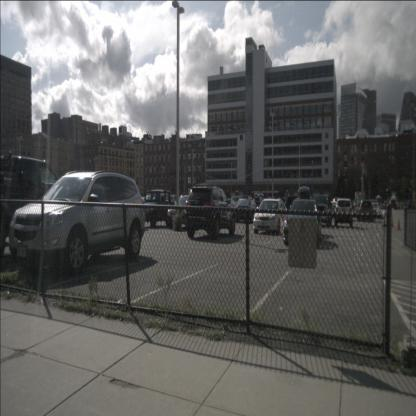movable_object-trafficcone: (396, 216, 401, 231), (390, 215, 394, 227)
vehicle-car: (9, 170, 145, 281), (184, 184, 236, 240), (282, 198, 322, 249), (137, 189, 176, 229), (253, 198, 289, 236), (167, 194, 202, 230), (310, 194, 334, 228), (234, 198, 262, 224), (334, 198, 353, 227), (225, 196, 247, 216), (356, 199, 374, 222), (352, 198, 364, 221), (368, 202, 380, 218), (389, 198, 397, 211), (254, 197, 263, 208), (407, 198, 415, 210), (383, 200, 389, 210)
vehicle-truck: (0, 155, 84, 262)
